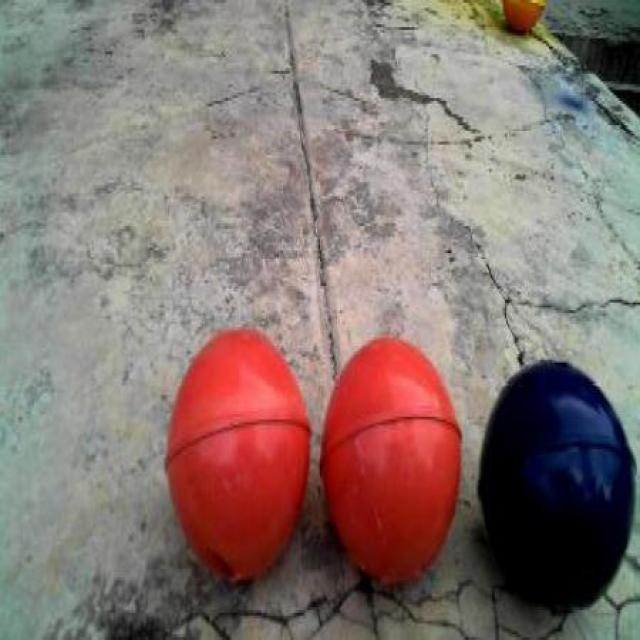buoy: (474, 346, 640, 624), (160, 316, 316, 591), (316, 329, 466, 594)
